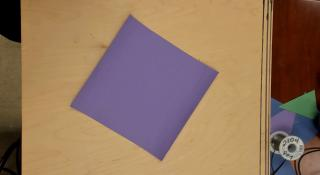Square: (70, 15, 220, 161)
